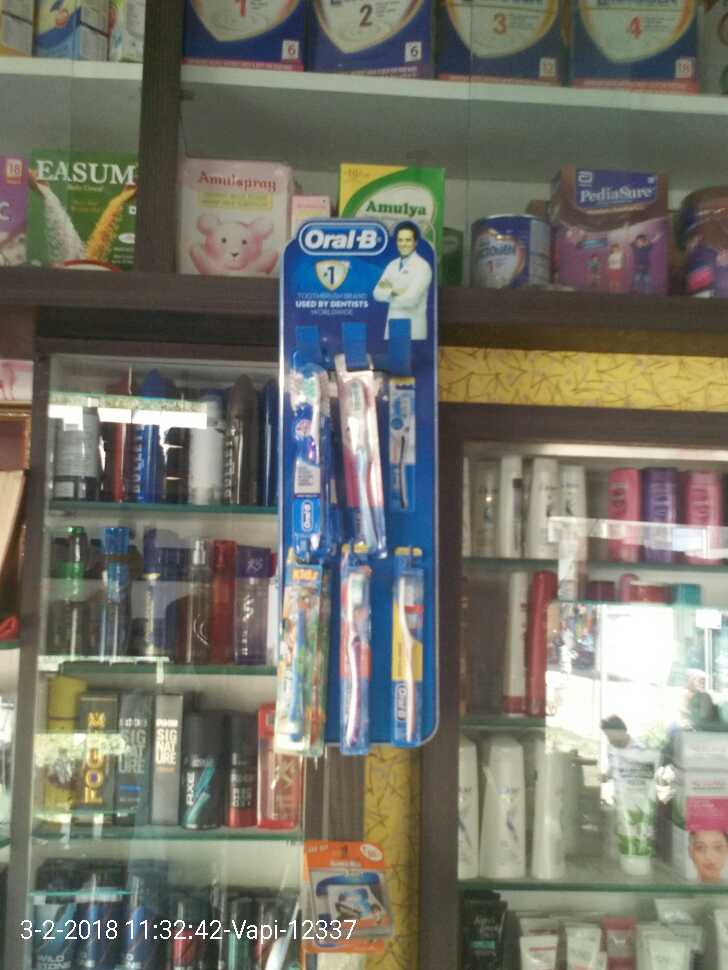oralb: (282, 364, 335, 545), (344, 367, 389, 557), (275, 567, 320, 743), (332, 571, 373, 751), (390, 575, 425, 747)
